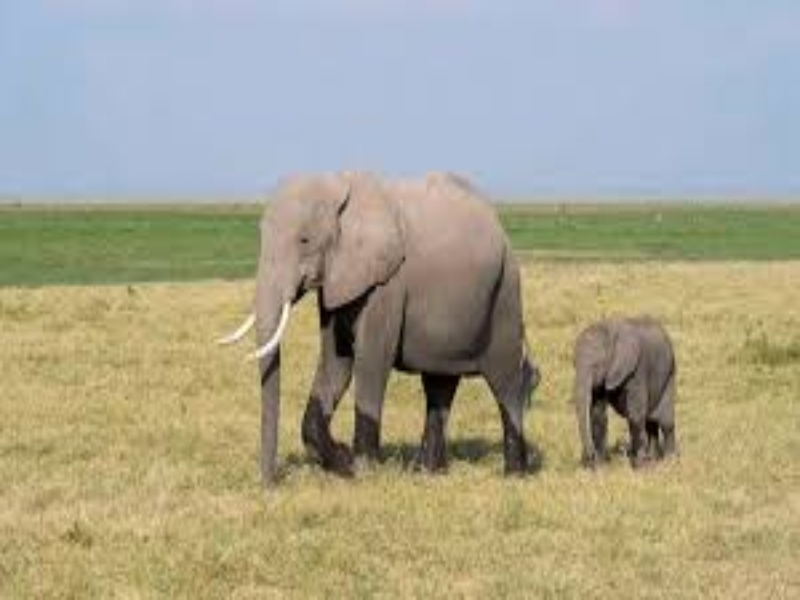elephant: (233, 150, 548, 489), (557, 310, 706, 468)
